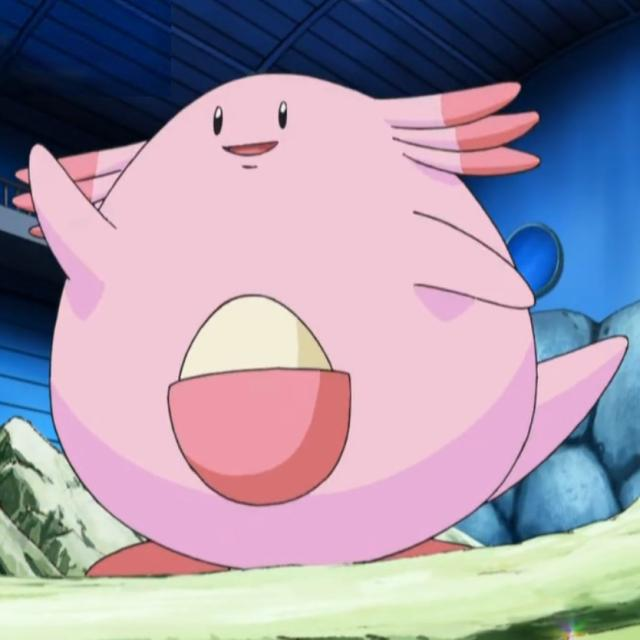Chansey: (13, 67, 549, 570)
